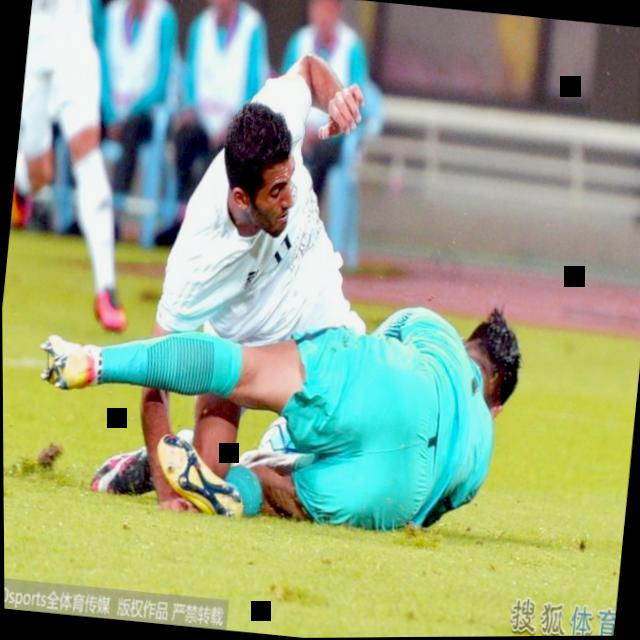Fall-Detected: (48, 21, 400, 517)
